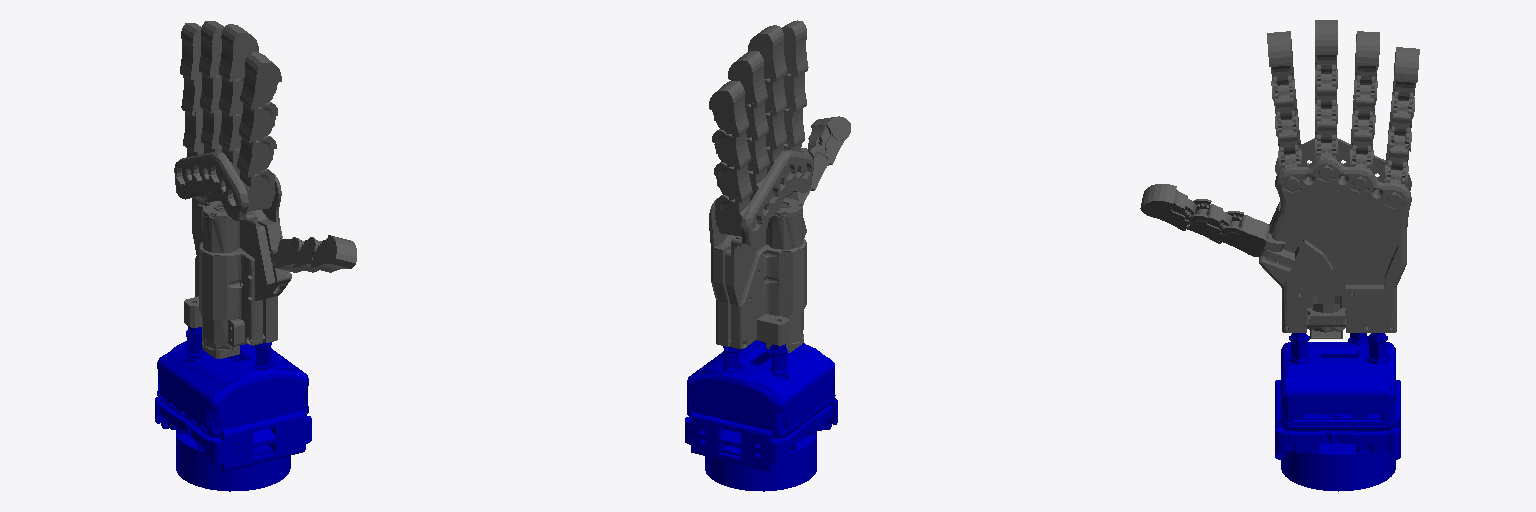
--- Facts derived from the render (not from the file) ---
The picture shows the robot from 3 angles, left to right: view 1: azimuth 30°, elevation 25°; view 2: azimuth 150°, elevation 25°; view 3: azimuth 270°, elevation 25°; orthographic projection.
Robot: soft_hand — 39 links, 38 joints (34 revolute, 4 fixed); root link left_hand_kuka_coupler_bottom; default pose: every joint at zero.
Links seen in each view (by area): view 1: left_hand_palm_link, left_hand_softhand_base, left_hand_clamp, left_hand_kuka_coupler_bottom, left_hand_index_distal_link, left_hand_middle_distal_link, left_hand_thumb_distal_link, left_hand_index_middle_link, left_hand_index_proximal_link, left_hand_ring_distal_link, left_hand_index_knuckle_link, left_hand_little_distal_link (+8 smaller); view 2: left_hand_palm_link, left_hand_softhand_base, left_hand_clamp, left_hand_kuka_coupler_bottom, left_hand_little_distal_link, left_hand_ring_distal_link, left_hand_middle_distal_link, left_hand_thumb_distal_link, left_hand_index_distal_link, left_hand_little_middle_link, left_hand_little_proximal_link, left_hand_little_knuckle_link (+7 smaller); view 3: left_hand_palm_link, left_hand_softhand_base, left_hand_kuka_coupler_bottom, left_hand_clamp, left_hand_thumb_knuckle_link, left_hand_thumb_distal_link, left_hand_index_distal_link, left_hand_little_distal_link, left_hand_thumb_proximal_link, left_hand_ring_distal_link, left_hand_middle_distal_link, left_hand_index_proximal_link (+11 smaller).
Link boxes in pixels (x1,y1,x2,y2): left_hand_palm_link: (174,151,291,358); left_hand_softhand_base: (157,326,308,437); left_hand_clamp: (155,397,311,471); left_hand_kuka_coupler_bottom: (176,430,290,491); left_hand_index_distal_link: (240,52,281,109); left_hand_middle_distal_link: (219,24,258,81); left_hand_thumb_distal_link: (311,235,356,272); left_hand_index_middle_link: (239,102,277,143); left_hand_index_proximal_link: (237,136,276,176); left_hand_ring_distal_link: (199,21,223,77); left_hand_index_knuckle_link: (233,169,275,211); left_hand_little_distal_link: (180,23,201,79); left_hand_palm_link: (709,150,813,352); left_hand_softhand_base: (687,340,835,438); left_hand_clamp: (685,398,837,471); left_hand_kuka_coupler_bottom: (705,435,816,491); left_hand_little_distal_link: (709,81,748,136); left_hand_ring_distal_link: (728,51,767,107); left_hand_middle_distal_link: (748,25,786,81); left_hand_thumb_distal_link: (808,116,850,165); left_hand_index_distal_link: (781,20,808,76); left_hand_little_middle_link: (712,129,750,169); left_hand_little_proximal_link: (714,162,752,202); left_hand_little_knuckle_link: (715,195,755,236); left_hand_palm_link: (1259,138,1411,338); left_hand_softhand_base: (1281,333,1395,430); left_hand_kuka_coupler_bottom: (1281,414,1395,491); left_hand_clamp: (1275,380,1400,459); left_hand_thumb_knuckle_link: (1216,211,1285,256); left_hand_thumb_distal_link: (1140,184,1195,230); left_hand_index_distal_link: (1267,31,1293,85); left_hand_little_distal_link: (1393,47,1419,100); left_hand_thumb_proximal_link: (1183,199,1231,243); left_hand_ring_distal_link: (1355,31,1379,84); left_hand_middle_distal_link: (1315,20,1337,73); left_hand_index_proximal_link: (1275,110,1300,154).
Bounding box of the posed robot: 0.066 × 0.1602 × 0.2805 m (x, y, z).
22 mesh visuals loaded from 7 distinct referenced files (7 binary STL).

The robot description file, URDF, robot "soft_hand":
<?xml version="1.0" ?>
<!-- =================================================================================== -->
<!-- |    This document was autogenerated by xacro from [local-path]/catkin_softhand/src/pisa-iit-soft-hand/soft_hand_description/model/soft_hand_example.urdf.xacro | -->
<!-- |    EDITING THIS FILE BY HAND IS NOT RECOMMENDED                                 | -->
<!-- =================================================================================== -->
<robot name="soft_hand" xmlns:xacro="http://www.ros.org/wiki/xacro">
  <material name="SoftHand/LightGrey">
    <color rgba="0.7 0.7 0.7 1.0"/>
  </material>
  <material name="SoftHand/DarkGrey">
    <color rgba="0.4 0.4 0.4 1.0"/>
  </material>
  <material name="SoftHand/Black">
    <color rgba="0.0 0.0 0.0 1.0"/>
  </material>
  <material name="SoftHand/DarkGolden">
    <color rgba="0.4 0.4 0.3 1.0"/>
  </material>
  <material name="SoftHand/Blue">
    <color rgba="0.0 0.0 0.8 0.9"/>
  </material>
  <material name="SoftHand/LightBlue">
    <color rgba="0.0 0.4 1.0 0.5"/>
  </material>
  <!-- <xacro:insert_block name="gazebo_friction_properties"/> -->
  <!-- <xacro:insert_block name="gazebo_other_properties"/> -->
  <!-- NOTE: inertia values are approximated using meshlab and only using the significant elements -->
  <!-- from http://answers.ros.org/question/11350/is-there-any-way-to-calculate-inertial-property-of-a-robot-to-simulate-it-in-gazebo/s
    One general rule of thumb I use for checking my inertia tensors is: If total mass of the rigid body is m, and the dimension of the corresponding body is d, then check to see if ixx, iyy, izz are near m*(d/2)^2.

    This is by no means correct, but a sanity check to make sure the moment of inertia are the right order of magnitudes, so the model behaves somewhat physically realistically.
    -->
  <!-- PACMAN VERION ALREADY INCLUDES THE COUPLER, CLAMP AND BASE -->
  <!--joint name="box_left_hand_kuka_coupler_joint" type="fixed">
    <origin rpy="0 0 0" xyz="0.0 0.0 0.0"/>
    <parent link="box"/>
    <child link="left_hand_kuka_coupler_bottom"/>
  </joint-->
  <link name="left_hand_kuka_coupler_bottom">
    <inertial>
      <origin rpy="0 0 0" xyz="0 0 0"/>
      <mass value="1.e-6"/>
      <inertia ixx="1.e-12" ixy="0.0" ixz="0.0" iyy="1.e-12" iyz="0.0" izz="1.e-12"/>
    </inertial> <!-- in pybullet, the inertia need to be specified even for dummy links, otherwise it will put an identity inertia and a mass of 1 by default -->
    <visual>
      <origin rpy="0 0 0" xyz="0 0 0.0115"/>
      <geometry>
        <!-- mesh filename="meshes/accesories/kuka_coupler.stl"/-->
        <cylinder length="0.023" radius="0.033"/>
      </geometry>
      <material name="SoftHand/Blue"/>
    </visual>
    <collision>
      <origin rpy="0 0 0" xyz="0 0 0.031"/>
      <geometry>
        <cylinder length="0.023" radius="0.033"/>
      </geometry>
    </collision>
  </link>
  <joint name="box_left_hand_kuka_coupler_base_joint" type="fixed">
    <origin rpy="0 0 0" xyz="0 0 0.023"/>
    <parent link="left_hand_kuka_coupler_bottom"/>
    <child link="left_hand_kuka_coupler"/>
  </joint>
  <link name="left_hand_kuka_coupler">
    <inertial>
      <origin rpy="0 0 0" xyz="0 0 0"/>
      <mass value="0"/>
      <inertia ixx="0.0" ixy="0.0" ixz="0.0" iyy="0.0" iyz="0.0" izz="0.0"/>
    </inertial> <!-- in pybullet, the inertia need to be specified even for dummy links, otherwise it will put an identity inertia and a mass of 1 by default -->
  </link>
  <joint name="left_hand_kuka_coupler_left_hand_clamp_joint" type="fixed">
    <origin rpy="0 0 0" xyz="0 0 0.01"/>
    <parent link="left_hand_kuka_coupler"/>
    <child link="left_hand_clamp"/>
  </joint>
  <link name="left_hand_clamp">
    <inertial>
      <origin rpy="0 0 0" xyz="0 0 0"/>
      <mass value="0"/>
      <inertia ixx="0.0" ixy="0.0" ixz="0.0" iyy="0.0" iyz="0.0" izz="0.0"/>
    </inertial> <!-- in pybullet, the inertia need to be specified even for dummy links, otherwise it will put an identity inertia and a mass of 1 by default -->
    <visual>
      <origin rpy="0 0 0" xyz="0 0 0"/>
      <geometry>
        <mesh filename="meshes/accesories/clamp.stl"/>
      </geometry>
      <material name="SoftHand/Blue"/>
    </visual>
    <collision>
      <origin rpy="0 0 0" xyz="0 0 0"/>
      <geometry>
        <box size="0.066 0.0725 0.0256"/>
      </geometry>
    </collision>
  </link>
  <joint name="left_hand_clamp_left_hand_softhand_base_joint" type="fixed">
    <origin rpy="0 0 0" xyz="0 0 0.004"/>
    <parent link="left_hand_clamp"/>
    <child link="left_hand_softhand_base"/>
  </joint>
  <link name="left_hand_softhand_base">
    <inertial>
      <origin rpy="0 0 0" xyz="0 0 0"/>
      <mass value="0"/>
      <inertia ixx="0.0" ixy="0.0" ixz="0.0" iyy="0.0" iyz="0.0" izz="0.0"/>
    </inertial> <!-- in pybullet, the inertia need to be specified even for dummy links, otherwise it will put an identity inertia and a mass of 1 by default -->
    <visual>
      <origin rpy="0 0 0" xyz="0 0 0"/>
      <geometry>
        <mesh filename="meshes/accesories/softhand_base_left.stl"/>
      </geometry>
      <material name="SoftHand/Blue"/>
    </visual>
    <collision>
      <origin rpy="0 0 0" xyz="0 0 0.031"/>
      <geometry>
        <box size="0.066 0.066 0.062"/>
      </geometry>
    </collision>
  </link>
  <!-- PALM -->
  <joint name="left_hand_palm_joint" type="fixed">
    <origin rpy="0 0 0" xyz="0.002 -0.00695 0.0535"/>
    <parent link="left_hand_softhand_base"/>
    <child link="left_hand_palm_link"/>
  </joint>
  <link name="left_hand_palm_link">
    <inertial>
      <origin xyz="-0.004568758 -0.006808116 0.027653328"/>
      <mass value="2.28"/>
      <inertia ixx="1.6302" ixy="0.0228" ixz="0.0228" iyy="0.9462" iyz="0.0456" izz="1.1058"/>
    </inertial>
    <visual>
      <geometry>
        <mesh filename="meshes/palm_left.stl" scale=" .001 .001 .001"/>
      </geometry>
      <material name="SoftHand/DarkGrey"/>
    </visual>
    <collision>
      <geometry>
        <mesh filename="meshes/palm_left_collision.stl" scale=" .001 .001 .001"/>
      </geometry>
    </collision>
  </link>
  <!-- MOTOR JOINT -->
  <joint name="left_hand_synergy_joint" type="revolute">
    <parent link="left_hand_palm_link"/>
    <child link="left_hand_invisible_wire_link"/>
    <axis xyz="0 0 1"/>
    <limit effort="100" lower="0.0" upper="1.0" velocity="100000"/>
    <dynamics damping="0.0" friction="0.0"/>
  </joint>
  <link name="left_hand_invisible_wire_link">
    <inertial>
      <origin xyz="0 0 0"/>
      <mass value="0.1"/>
      <inertia ixx="0.001" ixy="0.0" ixz="0.0" iyy="0.001" iyz="0.0" izz="0.001"/>
    </inertial>
  </link>
  <!-- KNUCKLE -->
  <joint name="left_hand_thumb_abd_joint" type="revolute">
    <origin rpy="0.0 -0.38397275793662144 -1.5707963267948966" xyz="0.005669722 -0.029616 0.055314"/>
    <parent link="left_hand_palm_link"/>
    <child link="left_hand_thumb_knuckle_link"/>
    <axis xyz="0 0 1"/>
    <limit effort="100" lower="0.0" upper="1.57079632679" velocity="100"/>
    <dynamics damping="0.0" friction="0.0"/>
  </joint>
  <link name="left_hand_thumb_knuckle_link">
    <inertial>
      <origin xyz="0.013608098 -0.000532174 -0.000216691"/>
      <mass value="0.09"/>
      <inertia ixx="0.00315" ixy="0.00027" ixz="-0.00054" iyy="0.009" iyz="0.00018" izz="0.009"/>
    </inertial>
    <visual>
      <geometry>
        <mesh filename="meshes/thumb_knuckle_left.stl" scale=" .001 .001 .001"/>
      </geometry>
      <material name="SoftHand/DarkGrey"/>
    </visual>
    <collision>
      <geometry>
        <mesh filename="meshes/thumb_knuckle_left_collision.stl" scale=" .001 .001 .001"/>
      </geometry>
    </collision>
  </link>
  <!-- PROXIMAL PHALANGE -->
  <joint name="left_hand_thumb_inner_joint" type="revolute">
    <origin rpy="-0.426627741408745 0 0.0" xyz="0.022500000 0.003300000 0.0"/>
    <parent link="left_hand_thumb_knuckle_link"/>
    <child link="left_hand_thumb_fake_link1"/>
    <axis xyz="0 -1 0"/>
    <limit effort="100" lower="0.0" upper="0.785398163397" velocity="100"/>
    <dynamics damping="0.0" friction="0.0"/>
  </joint>
  <link name="left_hand_thumb_fake_link1">
    <inertial>
      <origin xyz="0 0 0"/>
      <mass value="0.1"/>
      <inertia ixx="0.001" ixy="0.0" ixz="0.0" iyy="0.001" iyz="0.0" izz="0.001"/>
    </inertial>
  </link>
  <joint name="left_hand_thumb_inner_joint_mimic" type="revolute">
    <origin rpy="0 0 0" xyz="0.013 0 0"/>
    <parent link="left_hand_thumb_fake_link1"/>
    <child link="left_hand_thumb_proximal_link"/>
    <axis xyz="0 -1 0"/>
    <limit effort="100" lower="0.0" upper="0.785398163397" velocity="100"/>
    <dynamics damping="0.0" friction="0.0"/>
  </joint>
  <link name="left_hand_thumb_proximal_link">
    <inertial>
      <origin xyz="0.005074337 -4.524e-06 -0.000262953"/>
      <mass value="0.05"/>
      <inertia ixx="0.00175" ixy="0.0" ixz="0.0001" iyy="0.00275" iyz="0.0" izz="0.00275"/>
    </inertial>
    <visual>
      <geometry>
        <mesh filename="meshes/phalanx.stl" scale=" .001 .001 .001"/>
      </geometry>
      <material name="SoftHand/DarkGrey"/>
    </visual>
    <collision>
      <geometry>
        <mesh filename="meshes/phalanx_collision.stl" scale=" .001 .001 .001"/>
      </geometry>
    </collision>
  </link>
  <!-- DISTAL PHALANGE -->
  <joint name="left_hand_thumb_outer_joint" type="revolute">
    <origin rpy="0 0 0" xyz="0.009 0 0.0"/>
    <parent link="left_hand_thumb_proximal_link"/>
    <child link="left_hand_thumb_fake_link3"/>
    <axis xyz="0 -1 0"/>
    <limit effort="100" lower="0.0" upper="0.785398163397" velocity="100"/>
    <dynamics damping="0.0" friction="0.0"/>
  </joint>
  <link name="left_hand_thumb_fake_link3">
    <inertial>
      <origin xyz="0 0 0"/>
      <mass value="0.1"/>
      <inertia ixx="0.001" ixy="0.0" ixz="0.0" iyy="0.001" iyz="0.0" izz="0.001"/>
    </inertial>
  </link>
  <joint name="left_hand_thumb_outer_joint_mimic" type="revolute">
    <origin rpy="0 0 0" xyz="0.013 0 0"/>
    <parent link="left_hand_thumb_fake_link3"/>
    <child link="left_hand_thumb_distal_link"/>
    <axis xyz="0 -1 0"/>
    <limit effort="100" lower="0.0" upper="0.785398163397" velocity="100"/>
    <dynamics damping="0.0" friction="0.0"/>
  </joint>
  <link name="left_hand_thumb_distal_link">
    <inertial>
      <origin xyz="0.009849094 5.6e-07 0.000820286"/>
      <mass value="0.1"/>
      <inertia ixx="0.0035" ixy="0.0" ixz="0.0002" iyy="0.008" iyz="0.0" izz="0.0076"/>
    </inertial>
    <visual>
      <geometry>
        <mesh filename="meshes/fingertip.stl" scale=" .001 .001 .001"/>
      </geometry>
      <material name="SoftHand/DarkGrey"/>
    </visual>
    <collision>
      <geometry>
        <mesh filename="meshes/fingertip_collision.stl" scale=" .001 .001 .001"/>
      </geometry>
    </collision>
  </link>
  <!-- KNUCKLE -->
  <joint name="left_hand_index_abd_joint" type="revolute">
    <origin rpy="-1.5707963267948966 -1.4835299330931884 -1.5707963267948966" xyz="-0.0033 -0.0195 0.0936994"/>
    <parent link="left_hand_palm_link"/>
    <child link="left_hand_index_knuckle_link"/>
    <axis xyz="0 0 -1"/>
    <limit effort="100" lower="-0.523598775598" upper="0.523598775598" velocity="100"/>
    <dynamics damping="0.0" friction="0.0"/>
  </joint>
  <link name="left_hand_index_knuckle_link">
    <inertial>
      <origin xyz="0.001285644 -9.58e-07 0.000425011"/>
      <mass value="0.09"/>
      <inertia ixx="0.00405" ixy="0.0" ixz="0.00045" iyy="0.0081" iyz="0.0" izz="0.0063"/>
    </inertial>
    <visual>
      <geometry>
        <mesh filename="meshes/knuckle.stl" scale=" .001 .001 .001"/>
      </geometry>
      <material name="SoftHand/DarkGrey"/>
    </visual>
    <collision>
      <geometry>
        <mesh filename="meshes/knuckle_collision.stl" scale=" .001 .001 .001"/>
      </geometry>
    </collision>
  </link>
  <!-- PROXIMAL PHALANGE -->
  <joint name="left_hand_index_inner_joint" type="revolute">
    <origin rpy="0 0 0" xyz="0.009 0 0"/>
    <parent link="left_hand_index_knuckle_link"/>
    <child link="left_hand_index_fake_link1"/>
    <axis xyz="0 -1 0"/>
    <limit effort="100" lower="0.0" upper="0.785398163397" velocity="100"/>
    <dynamics damping="0.0" friction="0.0"/>
  </joint>
  <link name="left_hand_index_fake_link1">
    <inertial>
      <origin xyz="0 0 0"/>
      <mass value="0.1"/>
      <inertia ixx="0.001" ixy="0.0" ixz="0.0" iyy="0.001" iyz="0.0" izz="0.001"/>
    </inertial>
  </link>
  <joint name="left_hand_index_inner_joint_mimic" type="revolute">
    <origin rpy="0 0 0" xyz="0.013 0 0"/>
    <parent link="left_hand_index_fake_link1"/>
    <child link="left_hand_index_proximal_link"/>
    <axis xyz="0 -1 0"/>
    <limit effort="100" lower="0.0" upper="0.785398163397" velocity="100"/>
    <dynamics damping="0.0" friction="0.0"/>
  </joint>
  <link name="left_hand_index_proximal_link">
    <inertial>
      <origin xyz="0.005074337 -4.524e-06 -0.000262953"/>
      <mass value="0.05"/>
      <inertia ixx="0.00175" ixy="0.0" ixz="0.0001" iyy="0.00275" iyz="0.0" izz="0.00275"/>
    </inertial>
    <visual>
      <geometry>
        <mesh filename="meshes/phalanx.stl" scale=" .001 .001 .001"/>
      </geometry>
      <material name="SoftHand/DarkGrey"/>
    </visual>
    <collision>
      <geometry>
        <mesh filename="meshes/phalanx_collision.stl" scale=" .001 .001 .001"/>
      </geometry>
    </collision>
  </link>
  <!-- MIDDLE PHALANGE -->
  <joint name="left_hand_index_middle_joint" type="revolute">
    <origin rpy="0 0 0" xyz="0.009 0 0"/>
    <parent link="left_hand_index_proximal_link"/>
    <child link="left_hand_index_fake_link2"/>
    <axis xyz="0 -1 0"/>
    <limit effort="100" lower="0.0" upper="0.785398163397" velocity="100"/>
    <dynamics damping="0.0" friction="0.0"/>
  </joint>
  <link name="left_hand_index_fake_link2">
    <inertial>
      <origin xyz="0 0 0"/>
      <mass value="0.1"/>
      <inertia ixx="0.001" ixy="0.0" ixz="0.0" iyy="0.001" iyz="0.0" izz="0.001"/>
    </inertial>
  </link>
  <joint name="left_hand_index_middle_joint_mimic" type="revolute">
    <origin rpy="0 0 0" xyz="0.013 0 0"/>
    <parent link="left_hand_index_fake_link2"/>
    <child link="left_hand_index_middle_link"/>
    <axis xyz="0 -1 0"/>
    <limit effort="100" lower="0.0" upper="0.785398163397" velocity="100"/>
    <dynamics damping="0.0" friction="0.0"/>
  </joint>
  <link name="left_hand_index_middle_link">
    <inertial>
      <origin xyz="0.005074337 -4.524e-06 -0.000262953"/>
      <mass value="0.05"/>
      <inertia ixx="0.00175" ixy="0.0" ixz="0.0001" iyy="0.00275" iyz="0.0" izz="0.00275"/>
    </inertial>
    <visual>
      <geometry>
        <mesh filename="meshes/phalanx.stl" scale=" .001 .001 .001"/>
      </geometry>
      <material name="SoftHand/DarkGrey"/>
    </visual>
    <collision>
      <geometry>
        <mesh filename="meshes/phalanx_collision.stl" scale=" .001 .001 .001"/>
      </geometry>
    </collision>
  </link>
  <!-- DISTAL PHALANGE -->
  <joint name="left_hand_index_outer_joint" type="revolute">
    <origin rpy="0 0 0" xyz="0.009 0 0"/>
    <parent link="left_hand_index_middle_link"/>
    <child link="left_hand_index_fake_link3"/>
    <axis xyz="0 -1 0"/>
    <limit effort="100" lower="0.0" upper="0.785398163397" velocity="100"/>
    <dynamics damping="0.0" friction="0.0"/>
  </joint>
  <link name="left_hand_index_fake_link3">
    <inertial>
      <origin xyz="0 0 0"/>
      <mass value="0.1"/>
      <inertia ixx="0.001" ixy="0.0" ixz="0.0" iyy="0.001" iyz="0.0" izz="0.001"/>
    </inertial>
  </link>
  <joint name="left_hand_index_outer_joint_mimic" type="revolute">
    <origin rpy="0 0 0" xyz="0.013 0 0"/>
    <parent link="left_hand_index_fake_link3"/>
    <child link="left_hand_index_distal_link"/>
    <axis xyz="0 -1 0"/>
    <limit effort="100" lower="0.0" upper="0.785398163397" velocity="100"/>
    <dynamics damping="0.0" friction="0.0"/>
  </joint>
  <link name="left_hand_index_distal_link">
    <inertial>
      <origin xyz="0.009849094 5.6e-07 0.000820286"/>
      <mass value="0.1"/>
      <inertia ixx="0.0035" ixy="0.0" ixz="0.0002" iyy="0.008" iyz="0.0" izz="0.0076"/>
    </inertial>
    <visual>
      <geometry>
        <mesh filename="meshes/fingertip.stl" scale=" .001 .001 .001"/>
      </geometry>
      <material name="SoftHand/DarkGrey"/>
    </visual>
    <collision>
      <geometry>
        <mesh filename="meshes/fingertip_collision.stl" scale=" .001 .001 .001"/>
      </geometry>
    </collision>
  </link>
  <!-- KNUCKLE -->
  <joint name="left_hand_middle_abd_joint" type="revolute">
    <origin rpy="3.1415 -1.5707963267948966 0.0" xyz="-0.0033 0.0 0.100699"/>
    <parent link="left_hand_palm_link"/>
    <child link="left_hand_middle_knuckle_link"/>
    <axis xyz="0 0 -1"/>
    <limit effort="100" lower="-0.523598775598" upper="0.523598775598" velocity="100"/>
    <dynamics damping="0.0" friction="0.0"/>
  </joint>
  <link name="left_hand_middle_knuckle_link">
    <inertial>
      <origin xyz="0.001285644 -9.58e-07 0.000425011"/>
      <mass value="0.09"/>
      <inertia ixx="0.00405" ixy="0.0" ixz="0.00045" iyy="0.0081" iyz="0.0" izz="0.0063"/>
    </inertial>
    <visual>
      <geometry>
        <mesh filename="meshes/knuckle.stl" scale=" .001 .001 .001"/>
      </geometry>
      <material name="SoftHand/DarkGrey"/>
    </visual>
    <collision>
      <geometry>
        <mesh filename="meshes/knuckle_collision.stl" scale=" .001 .001 .001"/>
      </geometry>
    </collision>
  </link>
  <!-- PROXIMAL PHALANGE -->
  <joint name="left_hand_middle_inner_joint" type="revolute">
    <origin rpy="0 0 0" xyz="0.009 0 0"/>
    <parent link="left_hand_middle_knuckle_link"/>
    <child link="left_hand_middle_fake_link1"/>
    <axis xyz="0 -1 0"/>
    <limit effort="100" lower="0.0" upper="0.785398163397" velocity="100"/>
    <dynamics damping="0.0" friction="0.0"/>
  </joint>
  <link name="left_hand_middle_fake_link1">
    <inertial>
      <origin xyz="0 0 0"/>
      <mass value="0.1"/>
      <inertia ixx="0.001" ixy="0.0" ixz="0.0" iyy="0.001" iyz="0.0" izz="0.001"/>
    </inertial>
  </link>
  <joint name="left_hand_middle_inner_joint_mimic" type="revolute">
    <origin rpy="0 0 0" xyz="0.013 0 0"/>
    <parent link="left_hand_middle_fake_link1"/>
    <child link="left_hand_middle_proximal_link"/>
    <axis xyz="0 -1 0"/>
    <limit effort="100" lower="0.0" upper="0.785398163397" velocity="100"/>
    <dynamics damping="0.0" friction="0.0"/>
  </joint>
  <link name="left_hand_middle_proximal_link">
    <inertial>
      <origin xyz="0.005074337 -4.524e-06 -0.000262953"/>
      <mass value="0.05"/>
      <inertia ixx="0.00175" ixy="0.0" ixz="0.0001" iyy="0.00275" iyz="0.0" izz="0.00275"/>
    </inertial>
    <visual>
      <geometry>
        <mesh filename="meshes/phalanx.stl" scale=" .001 .001 .001"/>
      </geometry>
      <material name="SoftHand/DarkGrey"/>
    </visual>
    <collision>
      <geometry>
        <mesh filename="meshes/phalanx_collision.stl" scale=" .001 .001 .001"/>
      </geometry>
    </collision>
  </link>
  <!-- MIDDLE PHALANGE -->
  <joint name="left_hand_middle_middle_joint" type="revolute">
    <origin rpy="0 0 0" xyz="0.009 0 0"/>
    <parent link="left_hand_middle_proximal_link"/>
    <child link="left_hand_middle_fake_link2"/>
    <axis xyz="0 -1 0"/>
    <limit effort="100" lower="0.0" upper="0.785398163397" velocity="100"/>
    <dynamics damping="0.0" friction="0.0"/>
  </joint>
  <link name="left_hand_middle_fake_link2">
    <inertial>
      <origin xyz="0 0 0"/>
      <mass value="0.1"/>
      <inertia ixx="0.001" ixy="0.0" ixz="0.0" iyy="0.001" iyz="0.0" izz="0.001"/>
    </inertial>
  </link>
  <joint name="left_hand_middle_middle_joint_mimic" type="revolute">
    <origin rpy="0 0 0" xyz="0.013 0 0"/>
    <parent link="left_hand_middle_fake_link2"/>
    <child link="left_hand_middle_middle_link"/>
    <axis xyz="0 -1 0"/>
    <limit effort="100" lower="0.0" upper="0.785398163397" velocity="100"/>
    <dynamics damping="0.0" friction="0.0"/>
  </joint>
  <link name="left_hand_middle_middle_link">
    <inertial>
      <origin xyz="0.005074337 -4.524e-06 -0.000262953"/>
      <mass value="0.05"/>
      <inertia ixx="0.00175" ixy="0.0" ixz="0.0001" iyy="0.00275" iyz="0.0" izz="0.00275"/>
    </inertial>
    <visual>
      <geometry>
        <mesh filename="meshes/phalanx.stl" scale=" .001 .001 .001"/>
      </geometry>
      <material name="SoftHand/DarkGrey"/>
    </visual>
    <collision>
      <geometry>
        <mesh filename="meshes/phalanx_collision.stl" scale=" .001 .001 .001"/>
      </geometry>
    </collision>
  </link>
  <!-- DISTAL PHALANGE -->
  <joint name="left_hand_middle_outer_joint" type="revolute">
    <origin rpy="0 0 0" xyz="0.009 0 0"/>
    <parent link="left_hand_middle_middle_link"/>
    <child link="left_hand_middle_fake_link3"/>
    <axis xyz="0 -1 0"/>
    <limit effort="100" lower="0.0" upper="0.785398163397" velocity="100"/>
    <dynamics damping="0.0" friction="0.0"/>
  </joint>
  <link name="left_hand_middle_fake_link3">
    <inertial>
      <origin xyz="0 0 0"/>
      <mass value="0.1"/>
      <inertia ixx="0.001" ixy="0.0" ixz="0.0" iyy="0.001" iyz="0.0" izz="0.001"/>
    </inertial>
  </link>
  <joint name="left_hand_middle_outer_joint_mimic" type="revolute">
    <origin rpy="0 0 0" xyz="0.013 0 0"/>
    <parent link="left_hand_middle_fake_link3"/>
    <child link="left_hand_middle_distal_link"/>
    <axis xyz="0 -1 0"/>
    <limit effort="100" lower="0.0" upper="0.785398163397" velocity="100"/>
    <dynamics damping="0.0" friction="0.0"/>
  </joint>
  <link name="left_hand_middle_distal_link">
    <inertial>
      <origin xyz="0.009849094 5.6e-07 0.000820286"/>
      <mass value="0.1"/>
      <inertia ixx="0.0035" ixy="0.0" ixz="0.0002" iyy="0.008" iyz="0.0" izz="0.0076"/>
    </inertial>
    <visual>
      <geometry>
        <mesh filename="meshes/fingertip.stl" scale=" .001 .001 .001"/>
      </geometry>
      <material name="SoftHand/DarkGrey"/>
    </visual>
    <collision>
      <geometry>
        <mesh filename="meshes/fingertip_collision.stl" scale=" .001 .001 .001"/>
      </geometry>
    </collision>
  </link>
  <!-- KNUCKLE -->
  <joint name="left_hand_ring_abd_joint" type="revolute">
    <origin rpy="1.5707963267948966 -1.5184364298870514 1.5707963267948966" xyz="-0.0033 0.0195 0.0936994"/>
    <parent link="left_hand_palm_link"/>
    <child link="left_hand_ring_knuckle_link"/>
    <axis xyz="0 0 -1"/>
    <limit effort="100" lower="-0.523598775598" upper="0.523598775598" velocity="100"/>
    <dynamics damping="0.0" friction="0.0"/>
  </joint>
  <link name="left_hand_ring_knuckle_link">
    <inertial>
      <origin xyz="0.001285644 -9.58e-07 0.000425011"/>
      <mass value="0.09"/>
      <inertia ixx="0.00405" ixy="0.0" ixz="0.00045" iyy="0.0081" iyz="0.0" izz="0.0063"/>
    </inertial>
    <visual>
      <geometry>
        <mesh filename="meshes/knuckle.stl" scale=" .001 .001 .001"/>
      </geometry>
      <material name="SoftHand/DarkGrey"/>
    </visual>
    <collision>
      <geometry>
        <mesh filename="meshes/knuckle_collision.stl" scale=" .001 .001 .001"/>
      </geometry>
    </collision>
  </link>
  <!-- PROXIMAL PHALANGE -->
  <joint name="left_hand_ring_inner_joint" type="revolute">
    <origin rpy="0 0 0" xyz="0.009 0 0"/>
    <parent link="left_hand_ring_knuckle_link"/>
    <child link="left_hand_ring_fake_link1"/>
    <axis xyz="0 -1 0"/>
    <limit effort="100" lower="0.0" upper="0.785398163397" velocity="100"/>
    <dynamics damping="0.0" friction="0.0"/>
  </joint>
  <link name="left_hand_ring_fake_link1">
    <inertial>
      <origin xyz="0 0 0"/>
      <mass value="0.1"/>
      <inertia ixx="0.001" ixy="0.0" ixz="0.0" iyy="0.001" iyz="0.0" izz="0.001"/>
    </inertial>
  </link>
  <joint name="left_hand_ring_inner_joint_mimic" type="revolute">
    <origin rpy="0 0 0" xyz="0.013 0 0"/>
    <parent link="left_hand_ring_fake_link1"/>
    <child link="left_hand_ring_proximal_link"/>
    <axis xyz="0 -1 0"/>
    <limit effort="100" lower="0.0" upper="0.785398163397" velocity="100"/>
    <dynamics damping="0.0" friction="0.0"/>
  </joint>
  <link name="left_hand_ring_proximal_link">
    <inertial>
      <origin xyz="0.005074337 -4.524e-06 -0.000262953"/>
      <mass value="0.05"/>
      <inertia ixx="0.00175" ixy="0.0" ixz="0.0001" iyy="0.00275" iyz="0.0" izz="0.00275"/>
    </inertial>
    <visual>
      <geometry>
        <mesh filename="meshes/phalanx.stl" scale=" .001 .001 .001"/>
      </geometry>
      <material name="SoftHand/DarkGrey"/>
    </visual>
    <collision>
      <geometry>
        <mesh filename="meshes/phalanx_collision.stl" scale=" .001 .001 .001"/>
      </geometry>
    </collision>
  </link>
  <!-- MIDDLE PHALANGE -->
  <joint name="left_hand_ring_middle_joint" type="revolute">
    <origin rpy="0 0 0" xyz="0.009 0 0"/>
    <parent link="left_hand_ring_proximal_link"/>
    <child link="left_hand_ring_fake_link2"/>
    <axis xyz="0 -1 0"/>
    <limit effort="100" lower="0.0" upper="0.785398163397" velocity="100"/>
    <dynamics damping="0.0" friction="0.0"/>
  </joint>
  <link name="left_hand_ring_fake_link2">
    <inertial>
      <origin xyz="0 0 0"/>
      <mass value="0.1"/>
      <inertia ixx="0.001" ixy="0.0" ixz="0.0" iyy="0.001" iyz="0.0" izz="0.001"/>
    </inertial>
  </link>
  <joint name="left_hand_ring_middle_joint_mimic" type="revolute">
    <origin rpy="0 0 0" xyz="0.013 0 0"/>
    <parent link="left_hand_ring_fake_link2"/>
    <child link="left_hand_ring_middle_link"/>
    <axis xyz="0 -1 0"/>
    <limit effort="100" lower="0.0" upper="0.785398163397" velocity="100"/>
    <dynamics damping="0.0" friction="0.0"/>
  </joint>
  <link name="left_hand_ring_middle_link">
    <inertial>
      <origin xyz="0.005074337 -4.524e-06 -0.000262953"/>
      <mass value="0.05"/>
      <inertia ixx="0.00175" ixy="0.0" ixz="0.0001" iyy="0.00275" iyz="0.0" izz="0.00275"/>
    </inertial>
    <visual>
      <geometry>
        <mesh filename="meshes/phalanx.stl" scale=" .001 .001 .001"/>
      </geometry>
      <material name="SoftHand/DarkGrey"/>
    </visual>
    <collision>
      <geometry>
        <mesh filename="meshes/phalanx_collision.stl" scale=" .001 .001 .001"/>
      </geometry>
    </collision>
  </link>
  <!-- DISTAL PHALANGE -->
  <joint name="left_hand_ring_outer_joint" type="revolute">
    <origin rpy="0 0 0" xyz="0.009 0 0"/>
    <parent link="left_hand_ring_middle_link"/>
    <child link="left_hand_ring_fake_link3"/>
    <axis xyz="0 -1 0"/>
    <limit effort="100" lower="0.0" upper="0.785398163397" velocity="100"/>
    <dynamics damping="0.0" friction="0.0"/>
  </joint>
  <link name="left_hand_ring_fake_link3">
    <inertial>
      <origin xyz="0 0 0"/>
      <mass value="0.1"/>
      <inertia ixx="0.001" ixy="0.0" ixz="0.0" iyy="0.001" iyz="0.0" izz="0.001"/>
    </inertial>
  </link>
  <joint name="left_hand_ring_outer_joint_mimic" type="revolute">
    <origin rpy="0 0 0" xyz="0.013 0 0"/>
    <parent link="left_hand_ring_fake_link3"/>
    <child link="left_hand_ring_distal_link"/>
    <axis xyz="0 -1 0"/>
    <limit effort="100" lower="0.0" upper="0.785398163397" velocity="100"/>
    <dynamics damping="0.0" friction="0.0"/>
  </joint>
  <link name="left_hand_ring_distal_link">
    <inertial>
      <origin xyz="0.009849094 5.6e-07 0.000820286"/>
      <mass value="0.1"/>
      <inertia ixx="0.0035" ixy="0.0" ixz="0.0002" iyy="0.008" iyz="0.0" izz="0.0076"/>
    </inertial>
    <visual>
      <geometry>
        <mesh filename="meshes/fingertip.stl" scale=" .001 .001 .001"/>
      </geometry>
      <material name="SoftHand/DarkGrey"/>
    </visual>
    <collision>
      <geometry>
        <mesh filename="meshes/fingertip_collision.stl" scale=" .001 .001 .001"/>
      </geometry>
    </collision>
  </link>
  <!-- KNUCKLE -->
  <joint name="left_hand_little_abd_joint" type="revolute">
    <origin rpy="1.5707963267948966 -1.4835299330931884 1.5707963267948966" xyz="-0.0033 0.039 0.0836994"/>
    <parent link="left_hand_palm_link"/>
    <child link="left_hand_little_knuckle_link"/>
    <axis xyz="0 0 -1"/>
    <limit effort="100" lower="-0.523598775598" upper="0.523598775598" velocity="100"/>
    <dynamics damping="0.0" friction="0.0"/>
  </joint>
  <link name="left_hand_little_knuckle_link">
    <inertial>
      <origin xyz="0.001285644 -9.58e-07 0.000425011"/>
      <mass value="0.09"/>
      <inertia ixx="0.00405" ixy="0.0" ixz="0.00045" iyy="0.0081" iyz="0.0" izz="0.0063"/>
    </inertial>
    <visual>
      <geometry>
        <mesh filename="meshes/knuckle.stl" scale=" .001 .001 .001"/>
      </geometry>
      <material name="SoftHand/DarkGrey"/>
    </visual>
    <collision>
      <geometry>
        <mesh filename="meshes/knuckle_collision.stl" scale=" .001 .001 .001"/>
      </geometry>
    </collision>
  </link>
  <!-- PROXIMAL PHALANGE -->
  <joint name="left_hand_little_inner_joint" type="revolute">
    <origin rpy="0 0 0" xyz="0.009 0 0"/>
    <parent link="left_hand_little_knuckle_link"/>
    <child link="left_hand_little_fake_link1"/>
    <axis xyz="0 -1 0"/>
    <limit effort="100" lower="0.0" upper="0.785398163397" velocity="100"/>
    <dynamics damping="0.0" friction="0.0"/>
  </joint>
  <link name="left_hand_little_fake_link1">
    <inertial>
      <origin xyz="0 0 0"/>
      <mass value="0.1"/>
      <inertia ixx="0.001" ixy="0.0" ixz="0.0" iyy="0.001" iyz="0.0" izz="0.001"/>
    </inertial>
  </link>
  <joint name="left_hand_little_inner_joint_mimic" type="revolute">
    <origin rpy="0 0 0" xyz="0.013 0 0"/>
    <parent link="left_hand_little_fake_link1"/>
    <child link="left_hand_little_proximal_link"/>
    <axis xyz="0 -1 0"/>
    <limit effort="100" lower="0.0" upper="0.785398163397" velocity="100"/>
    <dynamics damping="0.0" friction="0.0"/>
  </joint>
  <link name="left_hand_little_proximal_link">
    <inertial>
      <origin xyz="0.005074337 -4.524e-06 -0.000262953"/>
      <mass value="0.05"/>
      <inertia ixx="0.00175" ixy="0.0" ixz="0.0001" iyy="0.00275" iyz="0.0" izz="0.00275"/>
    </inertial>
    <visual>
      <geometry>
        <mesh filename="meshes/phalanx.stl" scale=" .001 .001 .001"/>
      </geometry>
      <material name="SoftHand/DarkGrey"/>
    </visual>
    <collision>
      <geometry>
        <mesh filename="meshes/phalanx_collision.stl" scale=" .001 .001 .001"/>
      </geometry>
    </collision>
  </link>
  <!-- MIDDLE PHALANGE -->
  <joint name="left_hand_little_middle_joint" type="revolute">
    <origin rpy="0 0 0" xyz="0.009 0 0"/>
    <parent link="left_hand_little_proximal_link"/>
    <child link="left_hand_little_fake_link2"/>
    <axis xyz="0 -1 0"/>
    <limit effort="100" lower="0.0" upper="0.785398163397" velocity="100"/>
    <dynamics damping="0.0" friction="0.0"/>
  </joint>
  <link name="left_hand_little_fake_link2">
    <inertial>
      <origin xyz="0 0 0"/>
      <mass value="0.1"/>
      <inertia ixx="0.001" ixy="0.0" ixz="0.0" iyy="0.001" iyz="0.0" izz="0.001"/>
    </inertial>
  </link>
  <joint name="left_hand_little_middle_joint_mimic" type="revolute">
    <origin rpy="0 0 0" xyz="0.013 0 0"/>
    <parent link="left_hand_little_fake_link2"/>
    <child link="left_hand_little_middle_link"/>
    <axis xyz="0 -1 0"/>
    <limit effort="100" lower="0.0" upper="0.785398163397" velocity="100"/>
    <dynamics damping="0.0" friction="0.0"/>
  </joint>
  <link name="left_hand_little_middle_link">
    <inertial>
      <origin xyz="0.005074337 -4.524e-06 -0.000262953"/>
      <mass value="0.05"/>
      <inertia ixx="0.00175" ixy="0.0" ixz="0.0001" iyy="0.00275" iyz="0.0" izz="0.00275"/>
    </inertial>
    <visual>
      <geometry>
        <mesh filename="meshes/phalanx.stl" scale=" .001 .001 .001"/>
      </geometry>
      <material name="SoftHand/DarkGrey"/>
    </visual>
    <collision>
      <geometry>
        <mesh filename="meshes/phalanx_collision.stl" scale=" .001 .001 .001"/>
      </geometry>
    </collision>
  </link>
  <!-- DISTAL PHALANGE -->
  <joint name="left_hand_little_outer_joint" type="revolute">
    <origin rpy="0 0 0" xyz="0.009 0 0"/>
    <parent link="left_hand_little_middle_link"/>
    <child link="left_hand_little_fake_link3"/>
    <axis xyz="0 -1 0"/>
    <limit effort="100" lower="0.0" upper="0.785398163397" velocity="100"/>
    <dynamics damping="0.0" friction="0.0"/>
  </joint>
  <link name="left_hand_little_fake_link3">
    <inertial>
      <origin xyz="0 0 0"/>
      <mass value="0.1"/>
      <inertia ixx="0.001" ixy="0.0" ixz="0.0" iyy="0.001" iyz="0.0" izz="0.001"/>
    </inertial>
  </link>
  <joint name="left_hand_little_outer_joint_mimic" type="revolute">
    <origin rpy="0 0 0" xyz="0.013 0 0"/>
    <parent link="left_hand_little_fake_link3"/>
    <child link="left_hand_little_distal_link"/>
    <axis xyz="0 -1 0"/>
    <limit effort="100" lower="0.0" upper="0.785398163397" velocity="100"/>
    <dynamics damping="0.0" friction="0.0"/>
  </joint>
  <link name="left_hand_little_distal_link">
    <inertial>
      <origin xyz="0.009849094 5.6e-07 0.000820286"/>
      <mass value="0.1"/>
      <inertia ixx="0.0035" ixy="0.0" ixz="0.0002" iyy="0.008" iyz="0.0" izz="0.0076"/>
    </inertial>
    <visual>
      <geometry>
        <mesh filename="meshes/fingertip.stl" scale=" .001 .001 .001"/>
      </geometry>
      <material name="SoftHand/DarkGrey"/>
    </visual>
    <collision>
      <geometry>
        <mesh filename="meshes/fingertip_collision.stl" scale=" .001 .001 .001"/>
      </geometry>
    </collision>
  </link>
  <transmission name="left_hand_thumb_abd_trans">
    <robotNamespace>left_hand</robotNamespace>
    <type>transmission_interface/SimpleTransmission</type>
    <joint name="left_hand_thumb_abd_joint">
      <hardwareInterface>EffortJointInterface</hardwareInterface>
    </joint>
    <actuator name="left_hand_thumb_abd_motor">
      <mechanicalReduction>1.0</mechanicalReduction>
    </actuator>
  </transmission>
  <transmission name="left_hand_thumb_inner_trans">
    <robotNamespace>left_hand</robotNamespace>
    <type>transmission_interface/SimpleTransmission</type>
    <joint name="left_hand_thumb_inner_joint">
      <hardwareInterface>EffortJointInterface</hardwareInterface>
    </joint>
    <actuator name="left_hand_thumb_inner_motor">
      <mechanicalReduction>1.0</mechanicalReduction>
    </actuator>
  </transmission>
  <transmission name="left_hand_thumb_inner_mimic_trans">
    <robotNamespace>left_hand</robotNamespace>
    <type>transmission_interface/SimpleTransmission</type>
    <joint name="left_hand_thumb_inner_joint_mimic">
      <hardwareInterface>EffortJointInterface</hardwareInterface>
    </joint>
    <actuator name="left_hand_thumb_inner_motor">
      <mechanicalReduction>1.0</mechanicalReduction>
    </actuator>
  </transmission>
  <transmission name="left_hand_thumb_outer_trans">
    <robotNamespace>left_hand</robotNamespace>
    <type>transmission_interface/SimpleTransmission</type>
    <joint name="left_hand_thumb_outer_joint">
      <hardwareInterface>EffortJointInterface</hardwareInterface>
    </joint>
    <actuator name="left_hand_thumb_outer_motor">
      <mechanicalReduction>1.0</mechanicalReduction>
    </actuator>
  </transmission>
  <transmission name="left_hand_thumb_outer_mimic_trans">
    <robotNamespace>left_hand</robotNamespace>
    <type>transmission_interface/SimpleTransmission</type>
    <joint name="left_hand_thumb_outer_joint_mimic">
      <hardwareInterface>EffortJointInterface</hardwareInterface>
    </joint>
    <actuator name="left_hand_thumb_outer_motor">
      <mechanicalReduction>1.0</mechanicalReduction>
    </actuator>
  </transmission>
  <transmission name="left_hand_index_abd_trans">
    <robotNamespace>left_hand</robotNamespace>
    <type>transmission_interface/SimpleTransmission</type>
    <joint name="left_hand_index_abd_joint">
      <hardwareInterface>EffortJointInterface</hardwareInterface>
    </joint>
    <actuator name="left_hand_index_abd_motor">
      <mechanicalReduction>1.0</mechanicalReduction>
    </actuator>
  </transmission>
  <transmission name="left_hand_index_inner_trans">
    <robotNamespace>left_hand</robotNamespace>
    <type>transmission_interface/SimpleTransmission</type>
    <joint name="left_hand_index_inner_joint">
      <hardwareInterface>EffortJointInterface</hardwareInterface>
    </joint>
    <actuator name="left_hand_index_inner_motor">
      <mechanicalReduction>1.0</mechanicalReduction>
    </actuator>
  </transmission>
  <transmission name="left_hand_index_inner_mimic_trans">
    <robotNamespace>left_hand</robotNamespace>
    <type>transmission_interface/SimpleTransmission</type>
    <joint name="left_hand_index_inner_joint_mimic">
      <hardwareInterface>EffortJointInterface</hardwareInterface>
    </joint>
    <actuator name="left_hand_index_inner_motor">
      <mechanicalReduction>1.0</mechanicalReduction>
    </actuator>
  </transmission>
  <transmission name="left_hand_index_middle_trans">
    <robotNamespace>left_hand</robotNamespace>
    <type>transmission_interface/SimpleTransmission</type>
    <joint name="left_hand_index_middle_joint">
      <hardwareInterface>EffortJointInterface</hardwareInterface>
    </joint>
    <actuator name="left_hand_index_middle_motor">
      <mechanicalReduction>1.0</mechanicalReduction>
    </actuator>
  </transmission>
  <transmission name="left_hand_index_middle_mimic_trans">
    <robotNamespace>left_hand</robotNamespace>
    <type>transmission_interface/SimpleTransmission</type>
    <joint name="left_hand_index_middle_joint_mimic">
      <hardwareInterface>EffortJointInterface</hardwareInterface>
    </joint>
    <actuator name="left_hand_index_middle_motor">
      <mechanicalReduction>1.0</mechanicalReduction>
    </actuator>
  </transmission>
  <transmission name="left_hand_index_outer_trans">
    <robotNamespace>left_hand</robotNamespace>
    <type>transmission_interface/SimpleTransmission</type>
    <joint name="left_hand_index_outer_joint">
      <hardwareInterface>EffortJointInterface</hardwareInterface>
    </joint>
    <actuator name="left_hand_index_outer_motor">
      <mechanicalReduction>1.0</mechanicalReduction>
    </actuator>
  </transmission>
  <transmission name="left_hand_index_outer_mimic_trans">
    <robotNamespace>left_hand</robotNamespace>
    <type>transmission_interface/SimpleTransmission</type>
    <joint name="left_hand_index_outer_joint_mimic">
      <hardwareInterface>EffortJointInterface</hardwareInterface>
    </joint>
    <actuator name="left_hand_index_outer_motor">
      <mechanicalReduction>1.0</mechanicalReduction>
    </actuator>
  </transmission>
  <transmission name="left_hand_middle_abd_trans">
    <robotNamespace>left_hand</robotNamespace>
    <type>transmission_interface/SimpleTransmission</type>
    <joint name="left_hand_middle_abd_joint">
      <hardwareInterface>EffortJointInterface</hardwareInterface>
    </joint>
    <actuator name="left_hand_middle_abd_motor">
      <mechanicalReduction>1.0</mechanicalReduction>
    </actuator>
  </transmission>
  <transmission name="left_hand_middle_inner_trans">
    <robotNamespace>left_hand</robotNamespace>
    <type>transmission_interface/SimpleTransmission</type>
    <joint name="left_hand_middle_inner_joint">
      <hardwareInterface>EffortJointInterface</hardwareInterface>
    </joint>
    <actuator name="left_hand_middle_inner_motor">
      <mechanicalReduction>1.0</mechanicalReduction>
    </actuator>
  </transmission>
  <transmission name="left_hand_middle_inner_mimic_trans">
    <robotNamespace>left_hand</robotNamespace>
    <type>transmission_interface/SimpleTransmission</type>
    <joint name="left_hand_middle_inner_joint_mimic">
      <hardwareInterface>EffortJointInterface</hardwareInterface>
    </joint>
    <actuator name="left_hand_middle_inner_motor">
      <mechanicalReduction>1.0</mechanicalReduction>
    </actuator>
  </transmission>
  <transmission name="left_hand_middle_middle_trans">
    <robotNamespace>left_hand</robotNamespace>
    <type>transmission_interface/SimpleTransmission</type>
    <joint name="left_hand_middle_middle_joint">
      <hardwareInterface>EffortJointInterface</hardwareInterface>
    </joint>
    <actuator name="left_hand_middle_middle_motor">
      <mechanicalReduction>1.0</mechanicalReduction>
    </actuator>
  </transmission>
  <transmission name="left_hand_middle_middle_mimic_trans">
    <robotNamespace>left_hand</robotNamespace>
    <type>transmission_interface/SimpleTransmission</type>
    <joint name="left_hand_middle_middle_joint_mimic">
      <hardwareInterface>EffortJointInterface</hardwareInterface>
    </joint>
    <actuator name="left_hand_middle_middle_motor">
      <mechanicalReduction>1.0</mechanicalReduction>
    </actuator>
  </transmission>
  <transmission name="left_hand_middle_outer_trans">
    <robotNamespace>left_hand</robotNamespace>
    <type>transmission_interface/SimpleTransmission</type>
    <joint name="left_hand_middle_outer_joint">
      <hardwareInterface>EffortJointInterface</hardwareInterface>
    </joint>
    <actuator name="left_hand_middle_outer_motor">
      <mechanicalReduction>1.0</mechanicalReduction>
    </actuator>
  </transmission>
  <transmission name="left_hand_middle_outer_mimic_trans">
    <robotNamespace>left_hand</robotNamespace>
    <type>transmission_interface/SimpleTransmission</type>
    <joint name="left_hand_middle_outer_joint_mimic">
      <hardwareInterface>EffortJointInterface</hardwareInterface>
    </joint>
    <actuator name="left_hand_middle_outer_motor">
      <mechanicalReduction>1.0</mechanicalReduction>
    </actuator>
  </transmission>
  <transmission name="left_hand_ring_abd_trans">
    <robotNamespace>left_hand</robotNamespace>
    <type>transmission_interface/SimpleTransmission</type>
    <joint name="left_hand_ring_abd_joint">
      <hardwareInterface>EffortJointInterface</hardwareInterface>
    </joint>
    <actuator name="left_hand_ring_abd_motor">
      <mechanicalReduction>1.0</mechanicalReduction>
    </actuator>
  </transmission>
  <transmission name="left_hand_ring_inner_trans">
    <robotNamespace>left_hand</robotNamespace>
    <type>transmission_interface/SimpleTransmission</type>
    <joint name="left_hand_ring_inner_joint">
      <hardwareInterface>EffortJointInterface</hardwareInterface>
    </joint>
    <actuator name="left_hand_ring_inner_motor">
      <mechanicalReduction>1.0</mechanicalReduction>
    </actuator>
  </transmission>
  <transmission name="left_hand_ring_inner_mimic_trans">
    <robotNamespace>left_hand</robotNamespace>
    <type>transmission_interface/SimpleTransmission</type>
    <joint name="left_hand_ring_inner_joint_mimic">
      <hardwareInterface>EffortJointInterface</hardwareInterface>
    </joint>
    <actuator name="left_hand_ring_inner_motor">
      <mechanicalReduction>1.0</mechanicalReduction>
    </actuator>
  </transmission>
  <transmission name="left_hand_ring_middle_trans">
    <robotNamespace>left_hand</robotNamespace>
    <type>transmission_interface/SimpleTransmission</type>
    <joint name="left_hand_ring_middle_joint">
      <hardwareInterface>EffortJointInterface</hardwareInterface>
    </joint>
    <actuator name="left_hand_ring_middle_motor">
      <mechanicalReduction>1.0</mechanicalReduction>
    </actuator>
  </transmission>
  <transmission name="left_hand_ring_middle_mimic_trans">
    <robotNamespace>left_hand</robotNamespace>
    <type>transmission_interface/SimpleTransmission</type>
    <joint name="left_hand_ring_middle_joint_mimic">
      <hardwareInterface>EffortJointInterface</hardwareInterface>
    </joint>
    <actuator name="left_hand_ring_middle_motor">
      <mechanicalReduction>1.0</mechanicalReduction>
    </actuator>
  </transmission>
  <transmission name="left_hand_ring_outer_trans">
    <robotNamespace>left_hand</robotNamespace>
    <type>transmission_interface/SimpleTransmission</type>
    <joint name="left_hand_ring_outer_joint">
      <hardwareInterface>EffortJointInterface</hardwareInterface>
    </joint>
    <actuator name="left_hand_ring_outer_motor">
      <mechanicalReduction>1.0</mechanicalReduction>
    </actuator>
  </transmission>
  <transmission name="left_hand_ring_outer_mimic_trans">
    <robotNamespace>left_hand</robotNamespace>
    <type>transmission_interface/SimpleTransmission</type>
    <joint name="left_hand_ring_outer_joint_mimic">
      <hardwareInterface>EffortJointInterface</hardwareInterface>
    </joint>
    <actuator name="left_hand_ring_outer_motor">
      <mechanicalReduction>1.0</mechanicalReduction>
    </actuator>
  </transmission>
  <transmission name="left_hand_little_abd_trans">
    <robotNamespace>left_hand</robotNamespace>
    <type>transmission_interface/SimpleTransmission</type>
    <joint name="left_hand_little_abd_joint">
      <hardwareInterface>EffortJointInterface</hardwareInterface>
    </joint>
    <actuator name="left_hand_little_abd_motor">
      <mechanicalReduction>1.0</mechanicalReduction>
    </actuator>
  </transmission>
  <transmission name="left_hand_little_inner_trans">
    <robotNamespace>left_hand</robotNamespace>
    <type>transmission_interface/SimpleTransmission</type>
    <joint name="left_hand_little_inner_joint">
      <hardwareInterface>EffortJointInterface</hardwareInterface>
    </joint>
    <actuator name="left_hand_little_inner_motor">
      <mechanicalReduction>1.0</mechanicalReduction>
    </actuator>
  </transmission>
  <transmission name="left_hand_little_inner_mimic_trans">
    <robotNamespace>left_hand</robotNamespace>
    <type>transmission_interface/SimpleTransmission</type>
    <joint name="left_hand_little_inner_joint_mimic">
      <hardwareInterface>EffortJointInterface</hardwareInterface>
    </joint>
    <actuator name="left_hand_little_inner_motor">
      <mechanicalReduction>1.0</mechanicalReduction>
    </actuator>
  </transmission>
  <transmission name="left_hand_little_middle_trans">
    <robotNamespace>left_hand</robotNamespace>
    <type>transmission_interface/SimpleTransmission</type>
    <joint name="left_hand_little_middle_joint">
      <hardwareInterface>EffortJointInterface</hardwareInterface>
    </joint>
    <actuator name="left_hand_little_middle_motor">
      <mechanicalReduction>1.0</mechanicalReduction>
    </actuator>
  </transmission>
  <transmission name="left_hand_little_middle_mimic_trans">
    <robotNamespace>left_hand</robotNamespace>
    <type>transmission_interface/SimpleTransmission</type>
    <joint name="left_hand_little_middle_joint_mimic">
      <hardwareInterface>EffortJointInterface</hardwareInterface>
    </joint>
    <actuator name="left_hand_little_middle_motor">
      <mechanicalReduction>1.0</mechanicalReduction>
    </actuator>
  </transmission>
  <transmission name="left_hand_little_outer_trans">
    <robotNamespace>left_hand</robotNamespace>
    <type>transmission_interface/SimpleTransmission</type>
    <joint name="left_hand_little_outer_joint">
      <hardwareInterface>EffortJointInterface</hardwareInterface>
    </joint>
    <actuator name="left_hand_little_outer_motor">
      <mechanicalReduction>1.0</mechanicalReduction>
    </actuator>
  </transmission>
  <transmission name="left_hand_little_outer_mimic_trans">
    <robotNamespace>left_hand</robotNamespace>
    <type>transmission_interface/SimpleTransmission</type>
    <joint name="left_hand_little_outer_joint_mimic">
      <hardwareInterface>EffortJointInterface</hardwareInterface>
    </joint>
    <actuator name="left_hand_little_outer_motor">
      <mechanicalReduction>1.0</mechanicalReduction>
    </actuator>
  </transmission>
  <gazebo>
    <plugin filename="libgazebo_ros_control.so" name="gazebo_ros_control">
      <robotNamespace>left_hand</robotNamespace>
    </plugin>
  </gazebo>
  <!-- LINKS -->
  <gazebo reference="left_hand_palm_link">
    <sensor name="left_hand_palm_link_contact" type="contact">
      <!-- the gazebo contact sensor -->
      <always_on>1</always_on>
      <update_rate>1000.0</update_rate>
      <contact>
        <collision>left_hand_palm_link_collision</collision>
        <topic>left_hand_palm_link_collision</topic>
      </contact>
      <!-- to publish a ros message with contact information -->
      <plugin filename="libgazebo_ros_bumper.so" name="left_hand_palm_link_gazebo_ros_bumper_plugin">
        <alwaysOn>true</alwaysOn>
        <frameName>left_hand_palm_link</frameName>
        <updateRate>100.0</updateRate>
        <bumperTopicName>/contacts/left_hand_palm_link</bumperTopicName>
      </plugin>
    </sensor>
    <gravity>true</gravity>
    <mu1>500.0</mu1>
    <mu2>500.0</mu2>
    <kp>1000000.0</kp>
    <kd>100.0</kd>
    <!-- <fdir1>string</fdir1> -->
    <!-- <dampingFactor>double</dampingFactor> -->
    <!-- <maxVel>double</maxVel> -->
    <!-- <minDepth>double</minDepth> -->
    <!-- <maxContacts>int</maxContacts> -->
  </gazebo>
  <gazebo reference="left_hand_thumb_knuckle_link">
    <sensor name="left_hand_thumb_knuckle_link_contact" type="contact">
      <!-- the gazebo contact sensor -->
      <always_on>1</always_on>
      <update_rate>1000.0</update_rate>
      <contact>
        <collision>left_hand_thumb_knuckle_link_collision</collision>
        <topic>left_hand_thumb_knuckle_link_collision</topic>
      </contact>
      <!-- to publish a ros message with contact information -->
      <plugin filename="libgazebo_ros_bumper.so" name="left_hand_thumb_knuckle_link_gazebo_ros_bumper_plugin">
        <alwaysOn>true</alwaysOn>
        <frameName>left_hand_thumb_knuckle_link</frameName>
        <updateRate>100.0</updateRate>
        <bumperTopicName>/contacts/left_hand_thumb_knuckle_link</bumperTopicName>
      </plugin>
    </sensor>
    <gravity>true</gravity>
    <mu1>500.0</mu1>
    <mu2>500.0</mu2>
    <kp>1000000.0</kp>
    <kd>100.0</kd>
    <!-- <fdir1>string</fdir1> -->
    <!-- <dampingFactor>double</dampingFactor> -->
    <!-- <maxVel>double</maxVel> -->
    <!-- <minDepth>double</minDepth> -->
    <!-- <maxContacts>int</maxContacts> -->
  </gazebo>
  <gazebo reference="left_hand_thumb_proximal_link">
    <sensor name="left_hand_thumb_proximal_link_contact" type="contact">
      <!-- the gazebo contact sensor -->
      <always_on>1</always_on>
      <update_rate>1000.0</update_rate>
      <contact>
        <collision>left_hand_thumb_proximal_link_collision</collision>
        <topic>left_hand_thumb_proximal_link_collision</topic>
      </contact>
      <!-- to publish a ros message with contact information -->
      <plugin filename="libgazebo_ros_bumper.so" name="left_hand_thumb_proximal_link_gazebo_ros_bumper_plugin">
        <alwaysOn>true</alwaysOn>
        <frameName>left_hand_thumb_proximal_link</frameName>
        <updateRate>100.0</updateRate>
        <bumperTopicName>/contacts/left_hand_thumb_proximal_link</bumperTopicName>
      </plugin>
    </sensor>
    <gravity>true</gravity>
    <mu1>500.0</mu1>
    <mu2>500.0</mu2>
    <kp>1000000.0</kp>
    <kd>100.0</kd>
    <!-- <fdir1>string</fdir1> -->
    <!-- <dampingFactor>double</dampingFactor> -->
    <!-- <maxVel>double</maxVel> -->
    <!-- <minDepth>double</minDepth> -->
    <!-- <maxContacts>int</maxContacts> -->
  </gazebo>
  <gazebo reference="left_hand_thumb_distal_link">
    <sensor name="left_hand_thumb_distal_link_contact" type="contact">
      <!-- the gazebo contact sensor -->
      <always_on>1</always_on>
      <update_rate>1000.0</update_rate>
      <contact>
        <collision>left_hand_thumb_distal_link_collision</collision>
        <topic>left_hand_thumb_distal_link_collision</topic>
      </contact>
      <!-- to publish a ros message with contact information -->
      <plugin filename="libgazebo_ros_bumper.so" name="left_hand_thumb_distal_link_gazebo_ros_bumper_plugin">
        <alwaysOn>true</alwaysOn>
        <frameName>left_hand_thumb_distal_link</frameName>
        <updateRate>100.0</updateRate>
        <bumperTopicName>/contacts/left_hand_thumb_distal_link</bumperTopicName>
      </plugin>
    </sensor>
    <gravity>true</gravity>
    <mu1>500.0</mu1>
    <mu2>500.0</mu2>
    <kp>1000000.0</kp>
    <kd>100.0</kd>
    <!-- <fdir1>string</fdir1> -->
    <!-- <dampingFactor>double</dampingFactor> -->
    <!-- <maxVel>double</maxVel> -->
    <!-- <minDepth>double</minDepth> -->
    <!-- <maxContacts>int</maxContacts> -->
  </gazebo>
  <gazebo reference="left_hand_index_knuckle_link">
    <sensor name="left_hand_index_knuckle_link_contact" type="contact">
      <!-- the gazebo contact sensor -->
      <always_on>1</always_on>
      <update_rate>1000.0</update_rate>
      <contact>
        <collision>left_hand_index_knuckle_link_collision</collision>
        <topic>left_hand_index_knuckle_link_collision</topic>
      </contact>
      <!-- to publish a ros message with contact information -->
      <plugin filename="libgazebo_ros_bumper.so" name="left_hand_index_knuckle_link_gazebo_ros_bumper_plugin">
        <alwaysOn>true</alwaysOn>
        <frameName>left_hand_index_knuckle_link</frameName>
        <updateRate>100.0</updateRate>
        <bumperTopicName>/contacts/left_hand_index_knuckle_link</bumperTopicName>
      </plugin>
    </sensor>
    <gravity>true</gravity>
    <mu1>500.0</mu1>
    <mu2>500.0</mu2>
    <kp>1000000.0</kp>
    <kd>100.0</kd>
    <!-- <fdir1>string</fdir1> -->
    <!-- <dampingFactor>double</dampingFactor> -->
    <!-- <maxVel>double</maxVel> -->
    <!-- <minDepth>double</minDepth> -->
    <!-- <maxContacts>int</maxContacts> -->
  </gazebo>
  <gazebo reference="left_hand_index_proximal_link">
    <sensor name="left_hand_index_proximal_link_contact" type="contact">
      <!-- the gazebo contact sensor -->
      <always_on>1</always_on>
      <update_rate>1000.0</update_rate>
      <contact>
        <collision>left_hand_index_proximal_link_collision</collision>
        <topic>left_hand_index_proximal_link_collision</topic>
      </contact>
      <!-- to publish a ros message with contact information -->
      <plugin filename="libgazebo_ros_bumper.so" name="left_hand_index_proximal_link_gazebo_ros_bumper_plugin">
        <alwaysOn>true</alwaysOn>
        <frameName>left_hand_index_proximal_link</frameName>
        <updateRate>100.0</updateRate>
        <bumperTopicName>/contacts/left_hand_index_proximal_link</bumperTopicName>
      </plugin>
    </sensor>
    <gravity>true</gravity>
    <mu1>500.0</mu1>
    <mu2>500.0</mu2>
    <kp>1000000.0</kp>
    <kd>100.0</kd>
    <!-- <fdir1>string</fdir1> -->
    <!-- <dampingFactor>double</dampingFactor> -->
    <!-- <maxVel>double</maxVel> -->
    <!-- <minDepth>double</minDepth> -->
    <!-- <maxContacts>int</maxContacts> -->
  </gazebo>
  <gazebo reference="left_hand_index_middle_link">
    <sensor name="left_hand_index_middle_link_contact" type="contact">
      <!-- the gazebo contact sensor -->
      <always_on>1</always_on>
      <update_rate>1000.0</update_rate>
      <contact>
        <collision>left_hand_index_middle_link_collision</collision>
        <topic>left_hand_index_middle_link_collision</topic>
      </contact>
      <!-- to publish a ros message with contact information -->
      <plugin filename="libgazebo_ros_bumper.so" name="left_hand_index_middle_link_gazebo_ros_bumper_plugin">
        <alwaysOn>true</alwaysOn>
        <frameName>left_hand_index_middle_link</frameName>
        <updateRate>100.0</updateRate>
        <bumperTopicName>/contacts/left_hand_index_middle_link</bumperTopicName>
      </plugin>
    </sensor>
    <gravity>true</gravity>
    <mu1>500.0</mu1>
    <mu2>500.0</mu2>
    <kp>1000000.0</kp>
    <kd>100.0</kd>
    <!-- <fdir1>string</fdir1> -->
    <!-- <dampingFactor>double</dampingFactor> -->
    <!-- <maxVel>double</maxVel> -->
    <!-- <minDepth>double</minDepth> -->
    <!-- <maxContacts>int</maxContacts> -->
  </gazebo>
  <gazebo reference="left_hand_index_distal_link">
    <sensor name="left_hand_index_distal_link_contact" type="contact">
      <!-- the gazebo contact sensor -->
      <always_on>1</always_on>
      <update_rate>1000.0</update_rate>
      <contact>
        <collision>left_hand_index_distal_link_collision</collision>
        <topic>left_hand_index_distal_link_collision</topic>
      </contact>
      <!-- to publish a ros message with contact information -->
      <plugin filename="libgazebo_ros_bumper.so" name="left_hand_index_distal_link_gazebo_ros_bumper_plugin">
        <alwaysOn>true</alwaysOn>
        <frameName>left_hand_index_distal_link</frameName>
        <updateRate>100.0</updateRate>
        <bumperTopicName>/contacts/left_hand_index_distal_link</bumperTopicName>
      </plugin>
    </sensor>
    <gravity>true</gravity>
    <mu1>500.0</mu1>
    <mu2>500.0</mu2>
    <kp>1000000.0</kp>
    <kd>100.0</kd>
    <!-- <fdir1>string</fdir1> -->
    <!-- <dampingFactor>double</dampingFactor> -->
    <!-- <maxVel>double</maxVel> -->
    <!-- <minDepth>double</minDepth> -->
    <!-- <maxContacts>int</maxContacts> -->
  </gazebo>
  <gazebo reference="left_hand_middle_knuckle_link">
    <sensor name="left_hand_middle_knuckle_link_contact" type="contact">
      <!-- the gazebo contact sensor -->
      <always_on>1</always_on>
      <update_rate>1000.0</update_rate>
      <contact>
        <collision>left_hand_middle_knuckle_link_collision</collision>
        <topic>left_hand_middle_knuckle_link_collision</topic>
      </contact>
      <!-- to publish a ros message with contact information -->
      <plugin filename="libgazebo_ros_bumper.so" name="left_hand_middle_knuckle_link_gazebo_ros_bumper_plugin">
        <alwaysOn>true</alwaysOn>
        <frameName>left_hand_middle_knuckle_link</frameName>
        <updateRate>100.0</updateRate>
        <bumperTopicName>/contacts/left_hand_middle_knuckle_link</bumperTopicName>
      </plugin>
    </sensor>
    <gravity>true</gravity>
    <mu1>500.0</mu1>
    <mu2>500.0</mu2>
    <kp>1000000.0</kp>
    <kd>100.0</kd>
    <!-- <fdir1>string</fdir1> -->
    <!-- <dampingFactor>double</dampingFactor> -->
    <!-- <maxVel>double</maxVel> -->
    <!-- <minDepth>double</minDepth> -->
    <!-- <maxContacts>int</maxContacts> -->
  </gazebo>
  <gazebo reference="left_hand_middle_proximal_link">
    <sensor name="left_hand_middle_proximal_link_contact" type="contact">
      <!-- the gazebo contact sensor -->
      <always_on>1</always_on>
      <update_rate>1000.0</update_rate>
      <contact>
        <collision>left_hand_middle_proximal_link_collision</collision>
        <topic>left_hand_middle_proximal_link_collision</topic>
      </contact>
      <!-- to publish a ros message with contact information -->
      <plugin filename="libgazebo_ros_bumper.so" name="left_hand_middle_proximal_link_gazebo_ros_bumper_plugin">
        <alwaysOn>true</alwaysOn>
        <frameName>left_hand_middle_proximal_link</frameName>
        <updateRate>100.0</updateRate>
        <bumperTopicName>/contacts/left_hand_middle_proximal_link</bumperTopicName>
      </plugin>
    </sensor>
    <gravity>true</gravity>
    <mu1>500.0</mu1>
    <mu2>500.0</mu2>
    <kp>1000000.0</kp>
    <kd>100.0</kd>
    <!-- <fdir1>string</fdir1> -->
    <!-- <dampingFactor>double</dampingFactor> -->
    <!-- <maxVel>double</maxVel> -->
    <!-- <minDepth>double</minDepth> -->
    <!-- <maxContacts>int</maxContacts> -->
  </gazebo>
  <gazebo reference="left_hand_middle_middle_link">
    <sensor name="left_hand_middle_middle_link_contact" type="contact">
      <!-- the gazebo contact sensor -->
      <always_on>1</always_on>
      <update_rate>1000.0</update_rate>
      <contact>
        <collision>left_hand_middle_middle_link_collision</collision>
        <topic>left_hand_middle_middle_link_collision</topic>
      </contact>
      <!-- to publish a ros message with contact information -->
      <plugin filename="libgazebo_ros_bumper.so" name="left_hand_middle_middle_link_gazebo_ros_bumper_plugin">
        <alwaysOn>true</alwaysOn>
        <frameName>left_hand_middle_middle_link</frameName>
        <updateRate>100.0</updateRate>
        <bumperTopicName>/contacts/left_hand_middle_middle_link</bumperTopicName>
      </plugin>
    </sensor>
    <gravity>true</gravity>
    <mu1>500.0</mu1>
    <mu2>500.0</mu2>
    <kp>1000000.0</kp>
    <kd>100.0</kd>
    <!-- <fdir1>string</fdir1> -->
    <!-- <dampingFactor>double</dampingFactor> -->
    <!-- <maxVel>double</maxVel> -->
    <!-- <minDepth>double</minDepth> -->
    <!-- <maxContacts>int</maxContacts> -->
  </gazebo>
  <gazebo reference="left_hand_middle_distal_link">
    <sensor name="left_hand_middle_distal_link_contact" type="contact">
      <!-- the gazebo contact sensor -->
      <always_on>1</always_on>
      <update_rate>1000.0</update_rate>
      <contact>
        <collision>left_hand_middle_distal_link_collision</collision>
        <topic>left_hand_middle_distal_link_collision</topic>
      </contact>
      <!-- to publish a ros message with contact information -->
      <plugin filename="libgazebo_ros_bumper.so" name="left_hand_middle_distal_link_gazebo_ros_bumper_plugin">
        <alwaysOn>true</alwaysOn>
        <frameName>left_hand_middle_distal_link</frameName>
        <updateRate>100.0</updateRate>
        <bumperTopicName>/contacts/left_hand_middle_distal_link</bumperTopicName>
      </plugin>
    </sensor>
    <gravity>true</gravity>
    <mu1>500.0</mu1>
    <mu2>500.0</mu2>
    <kp>1000000.0</kp>
    <kd>100.0</kd>
    <!-- <fdir1>string</fdir1> -->
    <!-- <dampingFactor>double</dampingFactor> -->
    <!-- <maxVel>double</maxVel> -->
    <!-- <minDepth>double</minDepth> -->
    <!-- <maxContacts>int</maxContacts> -->
  </gazebo>
  <gazebo reference="left_hand_ring_knuckle_link">
    <sensor name="left_hand_ring_knuckle_link_contact" type="contact">
      <!-- the gazebo contact sensor -->
      <always_on>1</always_on>
      <update_rate>1000.0</update_rate>
      <contact>
        <collision>left_hand_ring_knuckle_link_collision</collision>
        <topic>left_hand_ring_knuckle_link_collision</topic>
      </contact>
      <!-- to publish a ros message with contact information -->
      <plugin filename="libgazebo_ros_bumper.so" name="left_hand_ring_knuckle_link_gazebo_ros_bumper_plugin">
        <alwaysOn>true</alwaysOn>
        <frameName>left_hand_ring_knuckle_link</frameName>
        <updateRate>100.0</updateRate>
        <bumperTopicName>/contacts/left_hand_ring_knuckle_link</bumperTopicName>
      </plugin>
    </sensor>
    <gravity>true</gravity>
    <mu1>500.0</mu1>
    <mu2>500.0</mu2>
    <kp>1000000.0</kp>
    <kd>100.0</kd>
    <!-- <fdir1>string</fdir1> -->
    <!-- <dampingFactor>double</dampingFactor> -->
    <!-- <maxVel>double</maxVel> -->
    <!-- <minDepth>double</minDepth> -->
    <!-- <maxContacts>int</maxContacts> -->
  </gazebo>
  <gazebo reference="left_hand_ring_proximal_link">
    <sensor name="left_hand_ring_proximal_link_contact" type="contact">
      <!-- the gazebo contact sensor -->
      <always_on>1</always_on>
      <update_rate>1000.0</update_rate>
      <contact>
        <collision>left_hand_ring_proximal_link_collision</collision>
        <topic>left_hand_ring_proximal_link_collision</topic>
      </contact>
      <!-- to publish a ros message with contact information -->
      <plugin filename="libgazebo_ros_bumper.so" name="left_hand_ring_proximal_link_gazebo_ros_bumper_plugin">
        <alwaysOn>true</alwaysOn>
        <frameName>left_hand_ring_proximal_link</frameName>
        <updateRate>100.0</updateRate>
        <bumperTopicName>/contacts/left_hand_ring_proximal_link</bumperTopicName>
      </plugin>
    </sensor>
    <gravity>true</gravity>
    <mu1>500.0</mu1>
    <mu2>500.0</mu2>
    <kp>1000000.0</kp>
    <kd>100.0</kd>
    <!-- <fdir1>string</fdir1> -->
    <!-- <dampingFactor>double</dampingFactor> -->
    <!-- <maxVel>double</maxVel> -->
    <!-- <minDepth>double</minDepth> -->
    <!-- <maxContacts>int</maxContacts> -->
  </gazebo>
  <gazebo reference="left_hand_ring_middle_link">
    <sensor name="left_hand_ring_middle_link_contact" type="contact">
      <!-- the gazebo contact sensor -->
      <always_on>1</always_on>
      <update_rate>1000.0</update_rate>
      <contact>
        <collision>left_hand_ring_middle_link_collision</collision>
        <topic>left_hand_ring_middle_link_collision</topic>
      </contact>
      <!-- to publish a ros message with contact information -->
      <plugin filename="libgazebo_ros_bumper.so" name="left_hand_ring_middle_link_gazebo_ros_bumper_plugin">
        <alwaysOn>true</alwaysOn>
        <frameName>left_hand_ring_middle_link</frameName>
        <updateRate>100.0</updateRate>
        <bumperTopicName>/contacts/left_hand_ring_middle_link</bumperTopicName>
      </plugin>
    </sensor>
    <gravity>true</gravity>
    <mu1>500.0</mu1>
    <mu2>500.0</mu2>
    <kp>1000000.0</kp>
    <kd>100.0</kd>
    <!-- <fdir1>string</fdir1> -->
    <!-- <dampingFactor>double</dampingFactor> -->
    <!-- <maxVel>double</maxVel> -->
    <!-- <minDepth>double</minDepth> -->
    <!-- <maxContacts>int</maxContacts> -->
  </gazebo>
  <gazebo reference="left_hand_ring_distal_link">
    <sensor name="left_hand_ring_distal_link_contact" type="contact">
      <!-- the gazebo contact sensor -->
      <always_on>1</always_on>
      <update_rate>1000.0</update_rate>
      <contact>
        <collision>left_hand_ring_distal_link_collision</collision>
        <topic>left_hand_ring_distal_link_collision</topic>
      </contact>
      <!-- to publish a ros message with contact information -->
      <plugin filename="libgazebo_ros_bumper.so" name="left_hand_ring_distal_link_gazebo_ros_bumper_plugin">
        <alwaysOn>true</alwaysOn>
        <frameName>left_hand_ring_distal_link</frameName>
        <updateRate>100.0</updateRate>
        <bumperTopicName>/contacts/left_hand_ring_distal_link</bumperTopicName>
      </plugin>
    </sensor>
    <gravity>true</gravity>
    <mu1>500.0</mu1>
    <mu2>500.0</mu2>
    <kp>1000000.0</kp>
    <kd>100.0</kd>
    <!-- <fdir1>string</fdir1> -->
    <!-- <dampingFactor>double</dampingFactor> -->
    <!-- <maxVel>double</maxVel> -->
    <!-- <minDepth>double</minDepth> -->
    <!-- <maxContacts>int</maxContacts> -->
  </gazebo>
  <gazebo reference="left_hand_little_knuckle_link">
    <sensor name="left_hand_little_knuckle_link_contact" type="contact">
      <!-- the gazebo contact sensor -->
      <always_on>1</always_on>
      <update_rate>1000.0</update_rate>
      <contact>
        <collision>left_hand_little_knuckle_link_collision</collision>
        <topic>left_hand_little_knuckle_link_collision</topic>
      </contact>
      <!-- to publish a ros message with contact information -->
      <plugin filename="libgazebo_ros_bumper.so" name="left_hand_little_knuckle_link_gazebo_ros_bumper_plugin">
        <alwaysOn>true</alwaysOn>
        <frameName>left_hand_little_knuckle_link</frameName>
        <updateRate>100.0</updateRate>
        <bumperTopicName>/contacts/left_hand_little_knuckle_link</bumperTopicName>
      </plugin>
    </sensor>
    <gravity>true</gravity>
    <mu1>500.0</mu1>
    <mu2>500.0</mu2>
    <kp>1000000.0</kp>
    <kd>100.0</kd>
    <!-- <fdir1>string</fdir1> -->
    <!-- <dampingFactor>double</dampingFactor> -->
    <!-- <maxVel>double</maxVel> -->
    <!-- <minDepth>double</minDepth> -->
    <!-- <maxContacts>int</maxContacts> -->
  </gazebo>
  <gazebo reference="left_hand_little_proximal_link">
    <sensor name="left_hand_little_proximal_link_contact" type="contact">
      <!-- the gazebo contact sensor -->
      <always_on>1</always_on>
      <update_rate>1000.0</update_rate>
      <contact>
        <collision>left_hand_little_proximal_link_collision</collision>
        <topic>left_hand_little_proximal_link_collision</topic>
      </contact>
      <!-- to publish a ros message with contact information -->
      <plugin filename="libgazebo_ros_bumper.so" name="left_hand_little_proximal_link_gazebo_ros_bumper_plugin">
        <alwaysOn>true</alwaysOn>
        <frameName>left_hand_little_proximal_link</frameName>
        <updateRate>100.0</updateRate>
        <bumperTopicName>/contacts/left_hand_little_proximal_link</bumperTopicName>
      </plugin>
    </sensor>
    <gravity>true</gravity>
    <mu1>500.0</mu1>
    <mu2>500.0</mu2>
    <kp>1000000.0</kp>
    <kd>100.0</kd>
    <!-- <fdir1>string</fdir1> -->
    <!-- <dampingFactor>double</dampingFactor> -->
    <!-- <maxVel>double</maxVel> -->
    <!-- <minDepth>double</minDepth> -->
    <!-- <maxContacts>int</maxContacts> -->
  </gazebo>
  <gazebo reference="left_hand_little_middle_link">
    <sensor name="left_hand_little_middle_link_contact" type="contact">
      <!-- the gazebo contact sensor -->
      <always_on>1</always_on>
      <update_rate>1000.0</update_rate>
      <contact>
        <collision>left_hand_little_middle_link_collision</collision>
        <topic>left_hand_little_middle_link_collision</topic>
      </contact>
      <!-- to publish a ros message with contact information -->
      <plugin filename="libgazebo_ros_bumper.so" name="left_hand_little_middle_link_gazebo_ros_bumper_plugin">
        <alwaysOn>true</alwaysOn>
        <frameName>left_hand_little_middle_link</frameName>
        <updateRate>100.0</updateRate>
        <bumperTopicName>/contacts/left_hand_little_middle_link</bumperTopicName>
      </plugin>
    </sensor>
    <gravity>true</gravity>
    <mu1>500.0</mu1>
    <mu2>500.0</mu2>
    <kp>1000000.0</kp>
    <kd>100.0</kd>
    <!-- <fdir1>string</fdir1> -->
    <!-- <dampingFactor>double</dampingFactor> -->
    <!-- <maxVel>double</maxVel> -->
    <!-- <minDepth>double</minDepth> -->
    <!-- <maxContacts>int</maxContacts> -->
  </gazebo>
  <gazebo reference="left_hand_little_distal_link">
    <sensor name="left_hand_little_distal_link_contact" type="contact">
      <!-- the gazebo contact sensor -->
      <always_on>1</always_on>
      <update_rate>1000.0</update_rate>
      <contact>
        <collision>left_hand_little_distal_link_collision</collision>
        <topic>left_hand_little_distal_link_collision</topic>
      </contact>
      <!-- to publish a ros message with contact information -->
      <plugin filename="libgazebo_ros_bumper.so" name="left_hand_little_distal_link_gazebo_ros_bumper_plugin">
        <alwaysOn>true</alwaysOn>
        <frameName>left_hand_little_distal_link</frameName>
        <updateRate>100.0</updateRate>
        <bumperTopicName>/contacts/left_hand_little_distal_link</bumperTopicName>
      </plugin>
    </sensor>
    <gravity>true</gravity>
    <mu1>500.0</mu1>
    <mu2>500.0</mu2>
    <kp>1000000.0</kp>
    <kd>100.0</kd>
    <!-- <fdir1>string</fdir1> -->
    <!-- <dampingFactor>double</dampingFactor> -->
    <!-- <maxVel>double</maxVel> -->
    <!-- <minDepth>double</minDepth> -->
    <!-- <maxContacts>int</maxContacts> -->
  </gazebo>
  <!-- JOINTS -->
  <gazebo reference="left_hand_thumb_abd_joint">
    <provideFeedback>True</provideFeedback>
    <!--
		<kp> </kp>
		<kd> 1.0 </kd>
		<stopCfm> </stopCfm>
		<stopErp> </stopErp>
		<cfmDamping> </cfmDamping>
		<fudgeFactor> </fudgeFactor>
		-->
  </gazebo>
  <gazebo reference="left_hand_thumb_inner_joint">
    <provideFeedback>True</provideFeedback>
    <!--
		<kp> </kp>
		<kd> 1.0 </kd>
		<stopCfm> </stopCfm>
		<stopErp> </stopErp>
		<cfmDamping> </cfmDamping>
		<fudgeFactor> </fudgeFactor>
		-->
  </gazebo>
  <gazebo reference="left_hand_thumb_outer_joint">
    <provideFeedback>True</provideFeedback>
    <!--
		<kp> </kp>
		<kd> 1.0 </kd>
		<stopCfm> </stopCfm>
		<stopErp> </stopErp>
		<cfmDamping> </cfmDamping>
		<fudgeFactor> </fudgeFactor>
		-->
  </gazebo>
  <gazebo reference="left_hand_index_abd_joint">
    <provideFeedback>True</provideFeedback>
    <!--
		<kp> </kp>
		<kd> 1.0 </kd>
		<stopCfm> </stopCfm>
		<stopErp> </stopErp>
		<cfmDamping> </cfmDamping>
		<fudgeFactor> </fudgeFactor>
		-->
  </gazebo>
  <gazebo reference="left_hand_index_inner_joint">
    <provideFeedback>True</provideFeedback>
    <!--
		<kp> </kp>
		<kd> 1.0 </kd>
		<stopCfm> </stopCfm>
		<stopErp> </stopErp>
		<cfmDamping> </cfmDamping>
		<fudgeFactor> </fudgeFactor>
		-->
  </gazebo>
  <gazebo reference="left_hand_index_middle_joint">
    <provideFeedback>True</provideFeedback>
    <!--
		<kp> </kp>
		<kd> 1.0 </kd>
		<stopCfm> </stopCfm>
		<stopErp> </stopErp>
		<cfmDamping> </cfmDamping>
		<fudgeFactor> </fudgeFactor>
		-->
  </gazebo>
  <gazebo reference="left_hand_index_outer_joint">
    <provideFeedback>True</provideFeedback>
    <!--
		<kp> </kp>
		<kd> 1.0 </kd>
		<stopCfm> </stopCfm>
		<stopErp> </stopErp>
		<cfmDamping> </cfmDamping>
		<fudgeFactor> </fudgeFactor>
		-->
  </gazebo>
  <gazebo reference="left_hand_middle_abd_joint">
    <provideFeedback>True</provideFeedback>
    <!--
		<kp> </kp>
		<kd> 1.0 </kd>
		<stopCfm> </stopCfm>
		<stopErp> </stopErp>
		<cfmDamping> </cfmDamping>
		<fudgeFactor> </fudgeFactor>
		-->
  </gazebo>
  <gazebo reference="left_hand_middle_inner_joint">
    <provideFeedback>True</provideFeedback>
    <!--
		<kp> </kp>
		<kd> 1.0 </kd>
		<stopCfm> </stopCfm>
		<stopErp> </stopErp>
		<cfmDamping> </cfmDamping>
		<fudgeFactor> </fudgeFactor>
		-->
  </gazebo>
  <gazebo reference="left_hand_middle_middle_joint">
    <provideFeedback>True</provideFeedback>
    <!--
		<kp> </kp>
		<kd> 1.0 </kd>
		<stopCfm> </stopCfm>
		<stopErp> </stopErp>
		<cfmDamping> </cfmDamping>
		<fudgeFactor> </fudgeFactor>
		-->
  </gazebo>
  <gazebo reference="left_hand_middle_outer_joint">
    <provideFeedback>True</provideFeedback>
    <!--
		<kp> </kp>
		<kd> 1.0 </kd>
		<stopCfm> </stopCfm>
		<stopErp> </stopErp>
		<cfmDamping> </cfmDamping>
		<fudgeFactor> </fudgeFactor>
		-->
  </gazebo>
  <gazebo reference="left_hand_ring_abd_joint">
    <provideFeedback>True</provideFeedback>
    <!--
		<kp> </kp>
		<kd> 1.0 </kd>
		<stopCfm> </stopCfm>
		<stopErp> </stopErp>
		<cfmDamping> </cfmDamping>
		<fudgeFactor> </fudgeFactor>
		-->
  </gazebo>
  <gazebo reference="left_hand_ring_inner_joint">
    <provideFeedback>True</provideFeedback>
    <!--
		<kp> </kp>
		<kd> 1.0 </kd>
		<stopCfm> </stopCfm>
		<stopErp> </stopErp>
		<cfmDamping> </cfmDamping>
		<fudgeFactor> </fudgeFactor>
		-->
  </gazebo>
  <gazebo reference="left_hand_ring_middle_joint">
    <provideFeedback>True</provideFeedback>
    <!--
		<kp> </kp>
		<kd> 1.0 </kd>
		<stopCfm> </stopCfm>
		<stopErp> </stopErp>
		<cfmDamping> </cfmDamping>
		<fudgeFactor> </fudgeFactor>
		-->
  </gazebo>
  <gazebo reference="left_hand_ring_outer_joint">
    <provideFeedback>True</provideFeedback>
    <!--
		<kp> </kp>
		<kd> 1.0 </kd>
		<stopCfm> </stopCfm>
		<stopErp> </stopErp>
		<cfmDamping> </cfmDamping>
		<fudgeFactor> </fudgeFactor>
		-->
  </gazebo>
  <gazebo reference="left_hand_little_abd_joint">
    <provideFeedback>True</provideFeedback>
    <!--
		<kp> </kp>
		<kd> 1.0 </kd>
		<stopCfm> </stopCfm>
		<stopErp> </stopErp>
		<cfmDamping> </cfmDamping>
		<fudgeFactor> </fudgeFactor>
		-->
  </gazebo>
  <gazebo reference="left_hand_little_inner_joint">
    <provideFeedback>True</provideFeedback>
    <!--
		<kp> </kp>
		<kd> 1.0 </kd>
		<stopCfm> </stopCfm>
		<stopErp> </stopErp>
		<cfmDamping> </cfmDamping>
		<fudgeFactor> </fudgeFactor>
		-->
  </gazebo>
  <gazebo reference="left_hand_little_middle_joint">
    <provideFeedback>True</provideFeedback>
    <!--
		<kp> </kp>
		<kd> 1.0 </kd>
		<stopCfm> </stopCfm>
		<stopErp> </stopErp>
		<cfmDamping> </cfmDamping>
		<fudgeFactor> </fudgeFactor>
		-->
  </gazebo>
  <gazebo reference="left_hand_little_outer_joint">
    <provideFeedback>True</provideFeedback>
    <!--
		<kp> </kp>
		<kd> 1.0 </kd>
		<stopCfm> </stopCfm>
		<stopErp> </stopErp>
		<cfmDamping> </cfmDamping>
		<fudgeFactor> </fudgeFactor>
		-->
  </gazebo>
  <!-- mimic joints -->
  <gazebo reference="left_hand_thumb_inner_joint_mimic">
    <provideFeedback>True</provideFeedback>
    <!--
		<kp> </kp>
		<kd> 1.0 </kd>
		<stopCfm> </stopCfm>
		<stopErp> </stopErp>
		<cfmDamping> </cfmDamping>
		<fudgeFactor> </fudgeFactor>
		-->
  </gazebo>
  <gazebo reference="left_hand_thumb_outer_joint_mimic">
    <provideFeedback>True</provideFeedback>
    <!--
		<kp> </kp>
		<kd> 1.0 </kd>
		<stopCfm> </stopCfm>
		<stopErp> </stopErp>
		<cfmDamping> </cfmDamping>
		<fudgeFactor> </fudgeFactor>
		-->
  </gazebo>
  <gazebo reference="left_hand_index_inner_joint_mimic">
    <provideFeedback>True</provideFeedback>
    <!--
		<kp> </kp>
		<kd> 1.0 </kd>
		<stopCfm> </stopCfm>
		<stopErp> </stopErp>
		<cfmDamping> </cfmDamping>
		<fudgeFactor> </fudgeFactor>
		-->
  </gazebo>
  <gazebo reference="left_hand_index_middle_joint_mimic">
    <provideFeedback>True</provideFeedback>
    <!--
		<kp> </kp>
		<kd> 1.0 </kd>
		<stopCfm> </stopCfm>
		<stopErp> </stopErp>
		<cfmDamping> </cfmDamping>
		<fudgeFactor> </fudgeFactor>
		-->
  </gazebo>
  <gazebo reference="left_hand_index_outer_joint_mimic">
    <provideFeedback>True</provideFeedback>
    <!--
		<kp> </kp>
		<kd> 1.0 </kd>
		<stopCfm> </stopCfm>
		<stopErp> </stopErp>
		<cfmDamping> </cfmDamping>
		<fudgeFactor> </fudgeFactor>
		-->
  </gazebo>
  <gazebo reference="left_hand_middle_inner_joint_mimic">
    <provideFeedback>True</provideFeedback>
    <!--
		<kp> </kp>
		<kd> 1.0 </kd>
		<stopCfm> </stopCfm>
		<stopErp> </stopErp>
		<cfmDamping> </cfmDamping>
		<fudgeFactor> </fudgeFactor>
		-->
  </gazebo>
  <gazebo reference="left_hand_middle_middle_joint_mimic">
    <provideFeedback>True</provideFeedback>
    <!--
		<kp> </kp>
		<kd> 1.0 </kd>
		<stopCfm> </stopCfm>
		<stopErp> </stopErp>
		<cfmDamping> </cfmDamping>
		<fudgeFactor> </fudgeFactor>
		-->
  </gazebo>
  <gazebo reference="left_hand_middle_outer_joint_mimic">
    <provideFeedback>True</provideFeedback>
    <!--
		<kp> </kp>
		<kd> 1.0 </kd>
		<stopCfm> </stopCfm>
		<stopErp> </stopErp>
		<cfmDamping> </cfmDamping>
		<fudgeFactor> </fudgeFactor>
		-->
  </gazebo>
  <gazebo reference="left_hand_ring_inner_joint_mimic">
    <provideFeedback>True</provideFeedback>
    <!--
		<kp> </kp>
		<kd> 1.0 </kd>
		<stopCfm> </stopCfm>
		<stopErp> </stopErp>
		<cfmDamping> </cfmDamping>
		<fudgeFactor> </fudgeFactor>
		-->
  </gazebo>
  <gazebo reference="left_hand_ring_middle_joint_mimic">
    <provideFeedback>True</provideFeedback>
    <!--
		<kp> </kp>
		<kd> 1.0 </kd>
		<stopCfm> </stopCfm>
		<stopErp> </stopErp>
		<cfmDamping> </cfmDamping>
		<fudgeFactor> </fudgeFactor>
		-->
  </gazebo>
  <gazebo reference="left_hand_ring_outer_joint_mimic">
    <provideFeedback>True</provideFeedback>
    <!--
		<kp> </kp>
		<kd> 1.0 </kd>
		<stopCfm> </stopCfm>
		<stopErp> </stopErp>
		<cfmDamping> </cfmDamping>
		<fudgeFactor> </fudgeFactor>
		-->
  </gazebo>
  <gazebo reference="left_hand_little_inner_joint_mimic">
    <provideFeedback>True</provideFeedback>
    <!--
		<kp> </kp>
		<kd> 1.0 </kd>
		<stopCfm> </stopCfm>
		<stopErp> </stopErp>
		<cfmDamping> </cfmDamping>
		<fudgeFactor> </fudgeFactor>
		-->
  </gazebo>
  <gazebo reference="left_hand_little_middle_joint_mimic">
    <provideFeedback>True</provideFeedback>
    <!--
		<kp> </kp>
		<kd> 1.0 </kd>
		<stopCfm> </stopCfm>
		<stopErp> </stopErp>
		<cfmDamping> </cfmDamping>
		<fudgeFactor> </fudgeFactor>
		-->
  </gazebo>
  <gazebo reference="left_hand_little_outer_joint_mimic">
    <provideFeedback>True</provideFeedback>
    <!--
		<kp> </kp>
		<kd> 1.0 </kd>
		<stopCfm> </stopCfm>
		<stopErp> </stopErp>
		<cfmDamping> </cfmDamping>
		<fudgeFactor> </fudgeFactor>
		-->
  </gazebo>
</robot>
